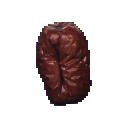ng: (29, 19, 103, 111)
